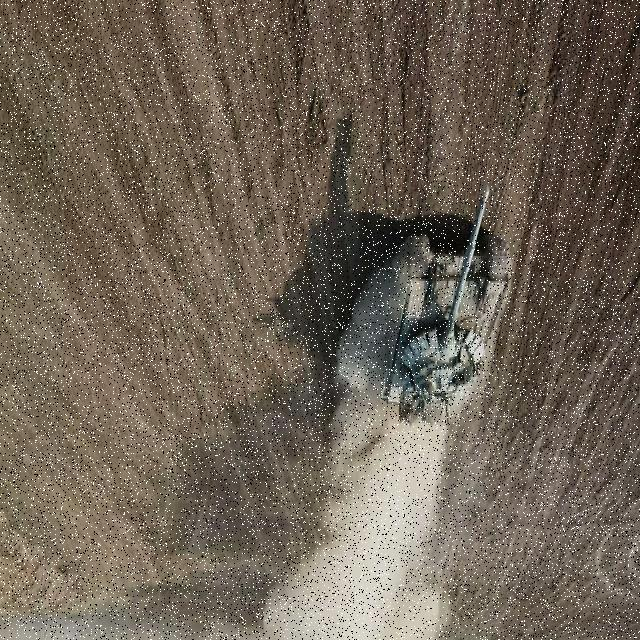MIL_MBT: (380, 182, 512, 426)
